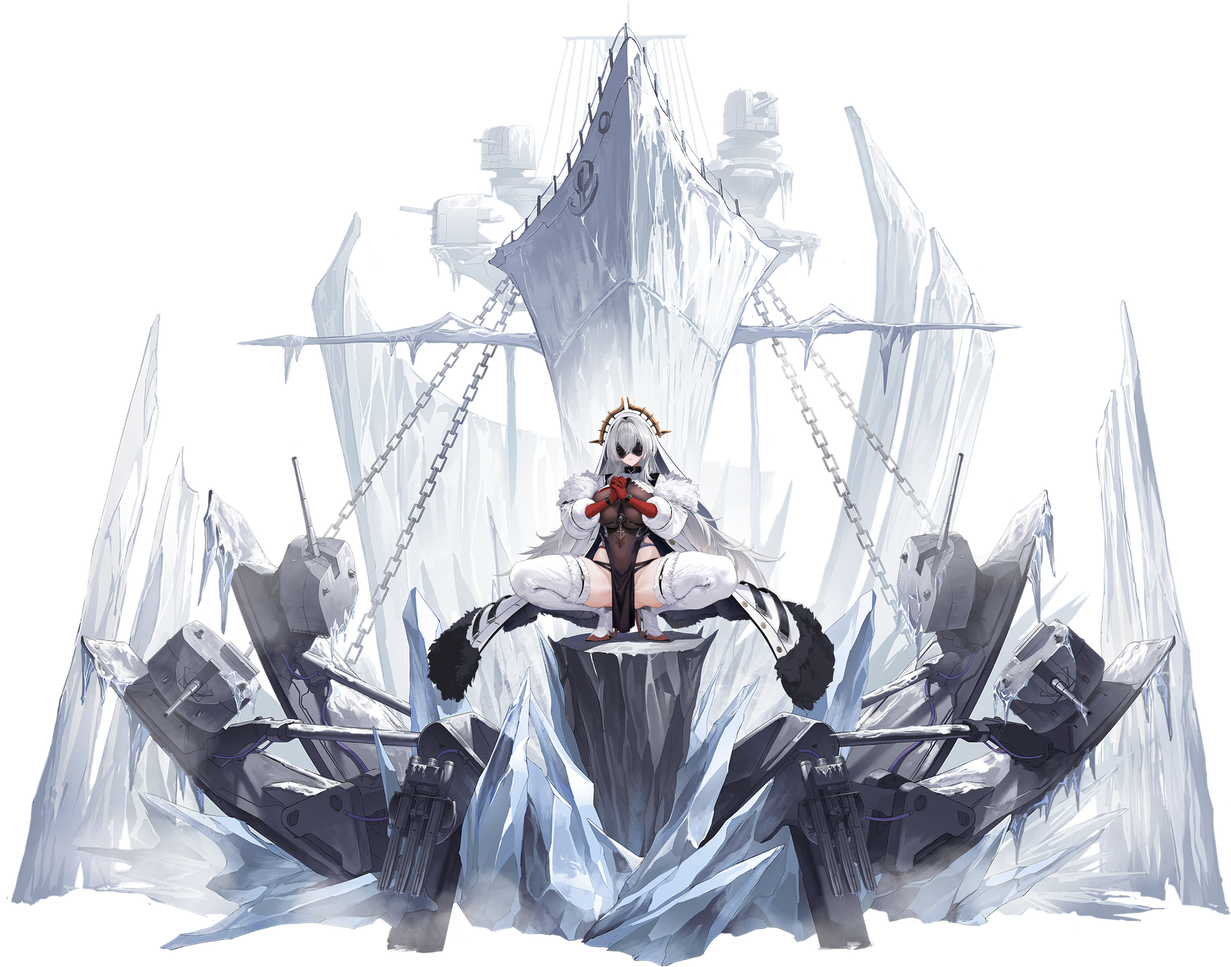person: (379, 366, 876, 961)
